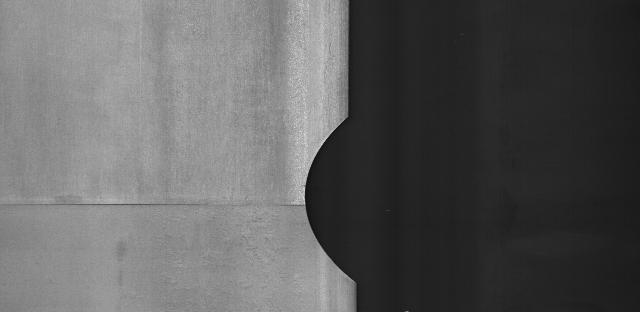welding_line: (2, 196, 318, 220)
